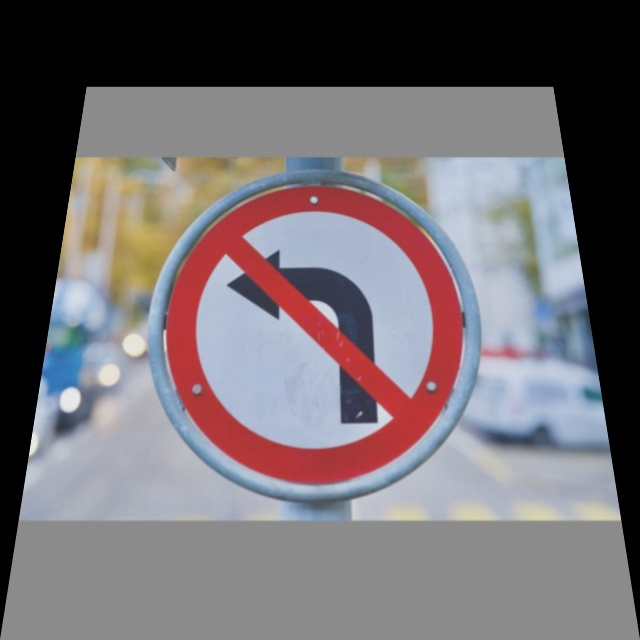Left_Turn_Prohibited: (133, 170, 496, 494)
